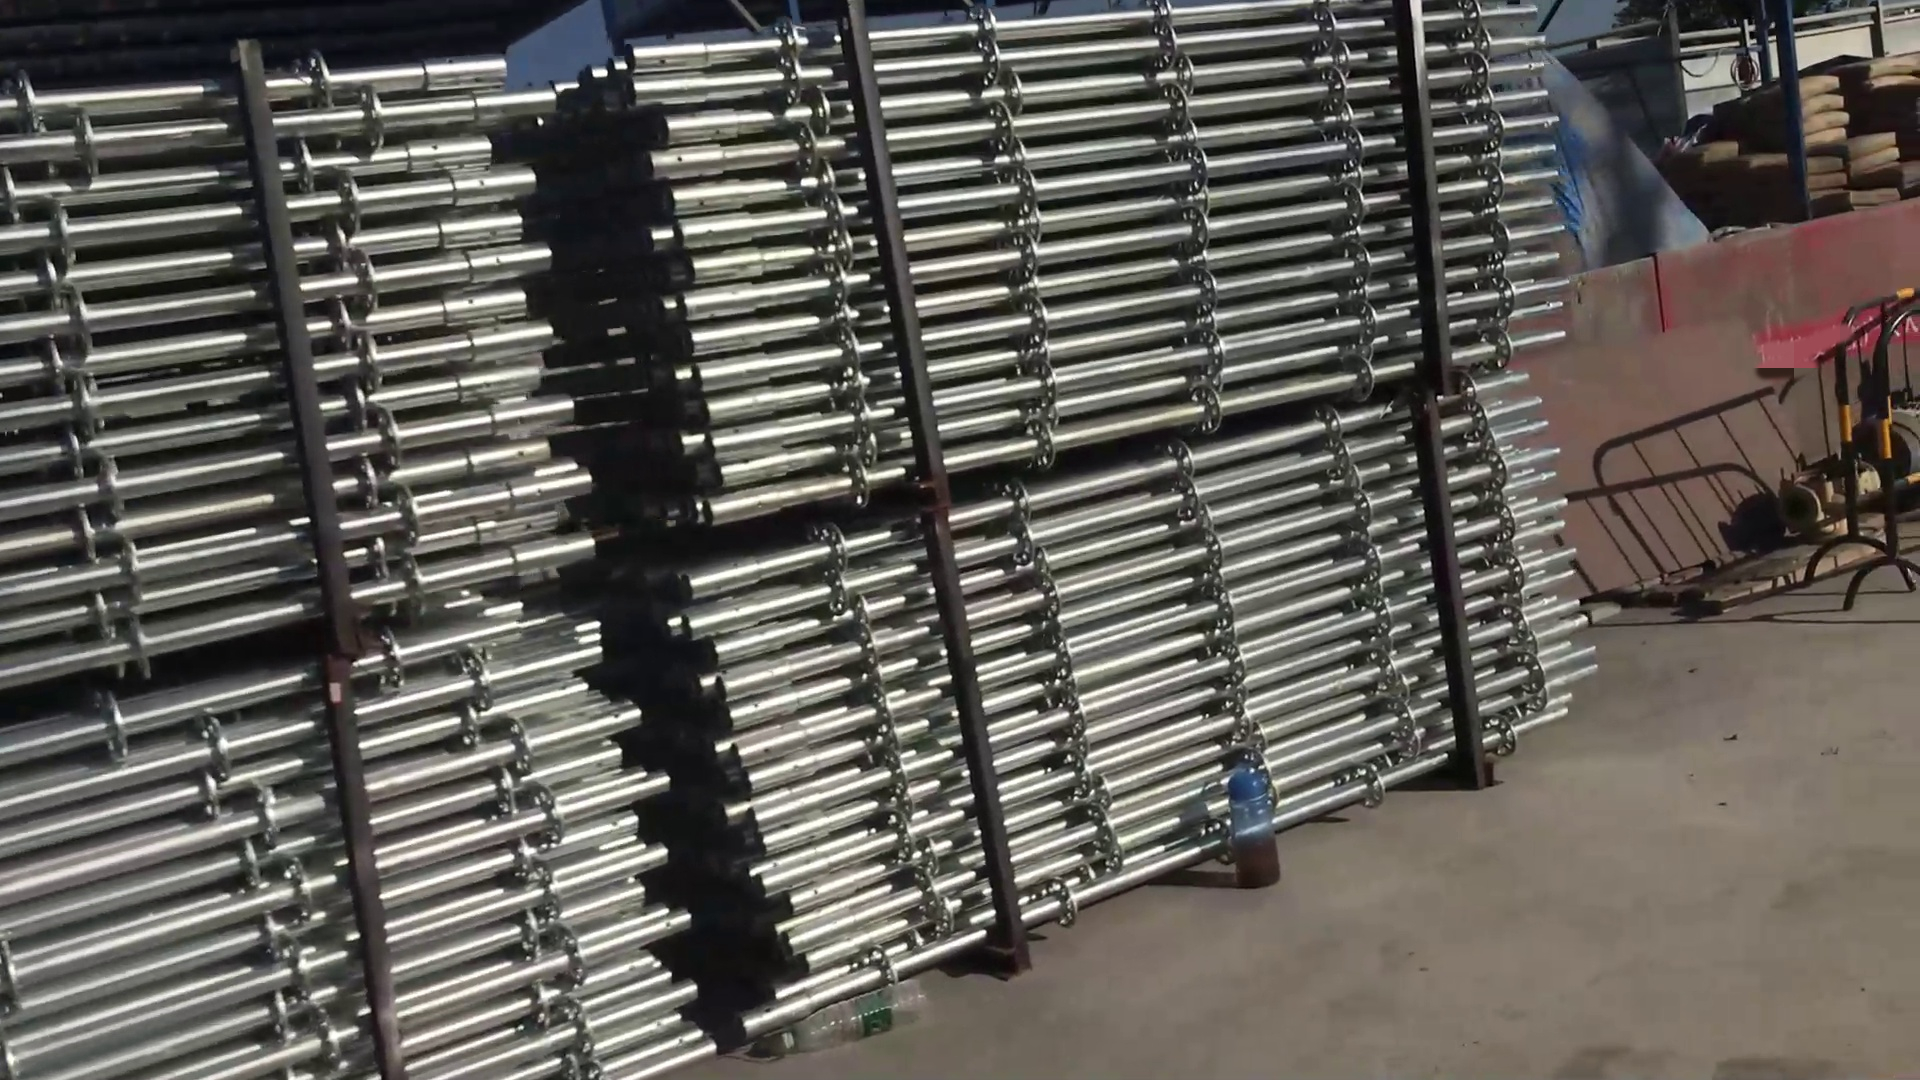fence: (1836, 280, 1920, 607)
scaffold: (596, 1, 1589, 972), (5, 41, 675, 1080)
